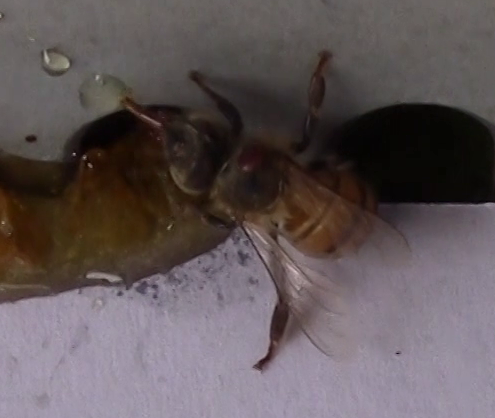Varroa destructor: (233, 143, 267, 174)
